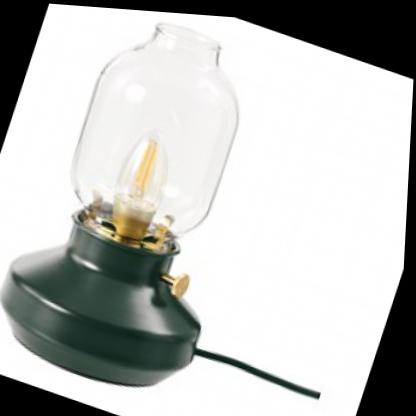Lamp: (0, 0, 309, 416)
